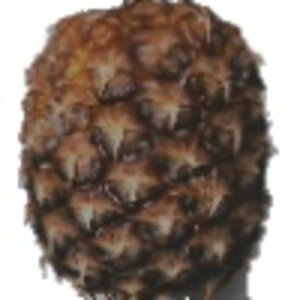abacaxi: (17, 4, 275, 293)
